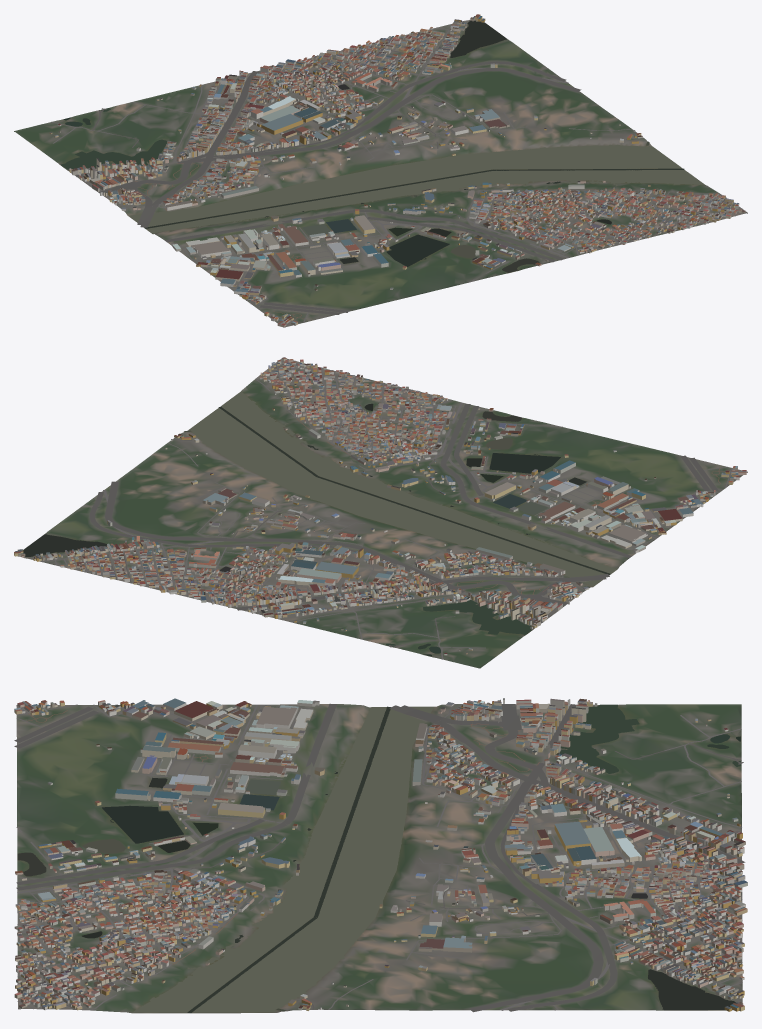
3 renders of one model, top to bottom at view 1: azimuth 30°, elevation 25°; view 2: azimuth 150°, elevation 25°; view 3: azimuth 270°, elevation 25°, orthographic. The views are drawn at different scales.
Parts seen in each view (by area): view 1: ground, buildings, water, roads; view 2: ground, buildings, water, roads; view 3: ground, buildings, water, roads.
Part boxes in pixels (left/top/right/bottom): ground: left=14, top=19, right=747, bottom=327; buildings: left=49, top=14, right=745, bottom=326; water: left=61, top=20, right=704, bottom=272; roads: left=51, top=27, right=742, bottom=327; ground: left=17, top=358, right=747, bottom=668; buildings: left=14, top=357, right=746, bottom=655; water: left=23, top=391, right=615, bottom=656; roads: left=40, top=360, right=732, bottom=659; ground: left=16, top=703, right=742, bottom=1013; buildings: left=14, top=698, right=747, bottom=1011; water: left=17, top=704, right=741, bottom=1013; roads: left=14, top=703, right=745, bottom=1012.
Bounding box in the file's own units: 1420 × 35.15 × 1420.
